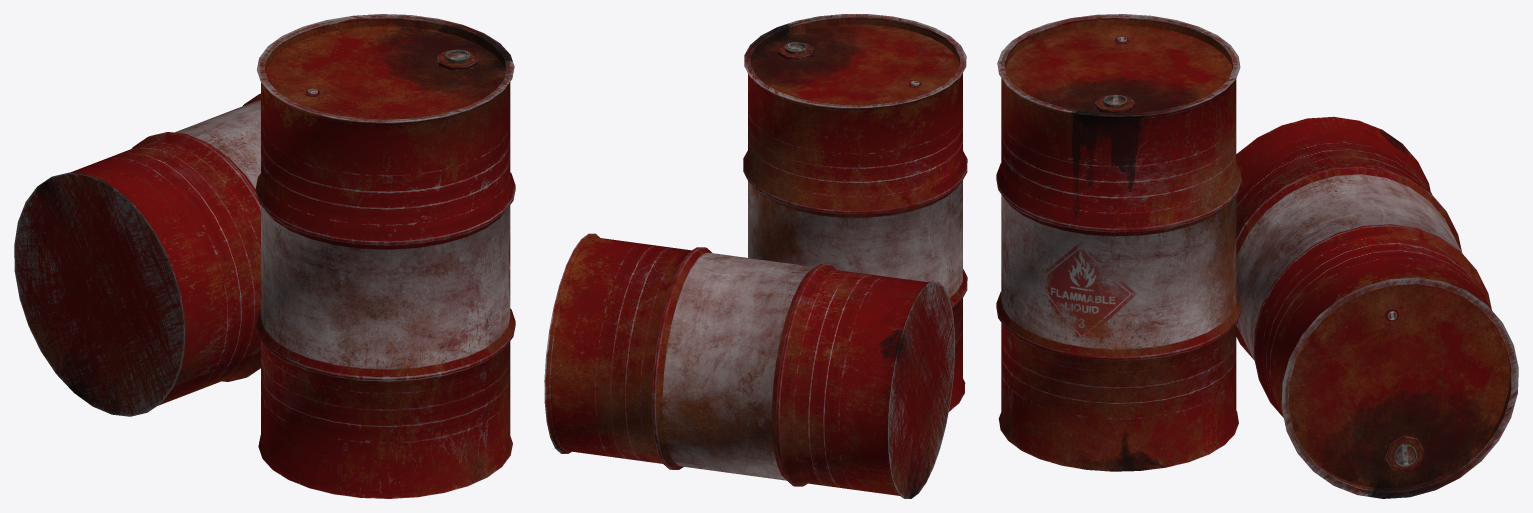
The model's file is oil_barrel.glb.
3 views of the same model, side by side, from view 1: azimuth 30°, elevation 25°; view 2: azimuth 150°, elevation 25°; view 3: azimuth 270°, elevation 25° (orthographic). The views are drawn at different scales.
Visible parts, largest first — view 1: barrel_oil, barrel_oil1; view 2: barrel_oil1, barrel_oil; view 3: barrel_oil, barrel_oil1.
Boxes of the visible parts, x1,y1,x2,y2 form: barrel_oil: (255,14,515,498); barrel_oil1: (14,93,260,416); barrel_oil1: (544,233,954,498); barrel_oil: (743,14,967,411); barrel_oil: (996,14,1241,471); barrel_oil1: (1236,116,1518,498).
Bounding box in the file's own units: 0.997 × 0.9 × 1.2.
1 material, 1 textured.
